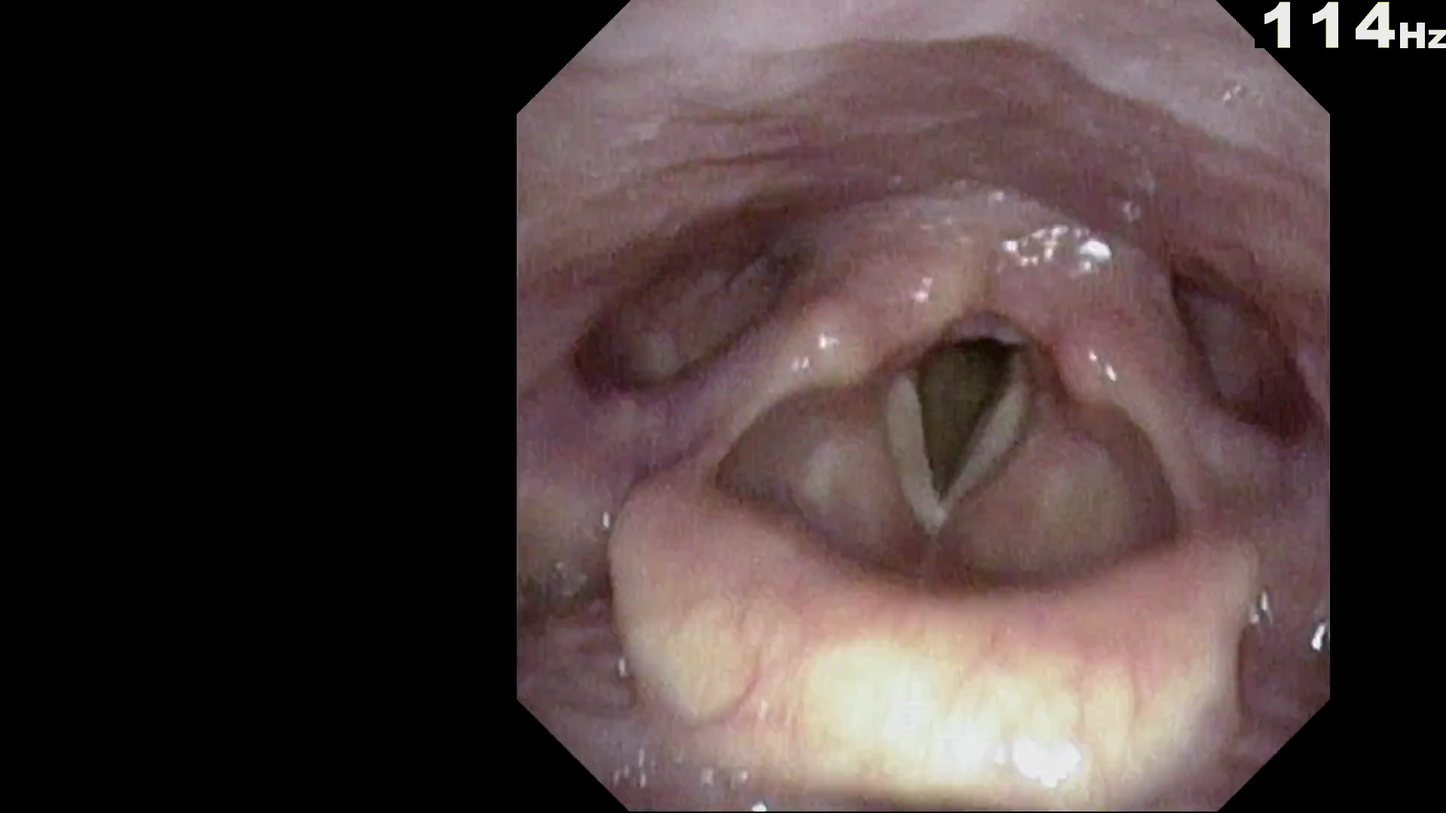epiglottis: (585, 457, 1274, 732)
trachea: (865, 329, 1044, 554)
